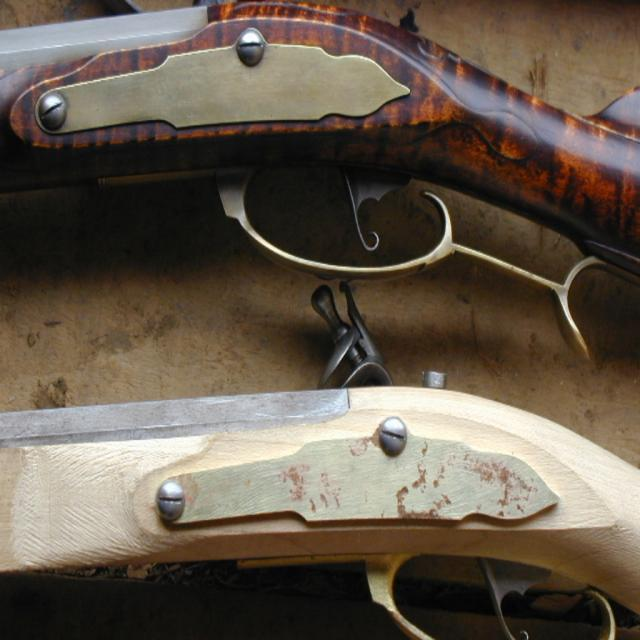weapon: (0, 0, 639, 359), (0, 410, 639, 632)
